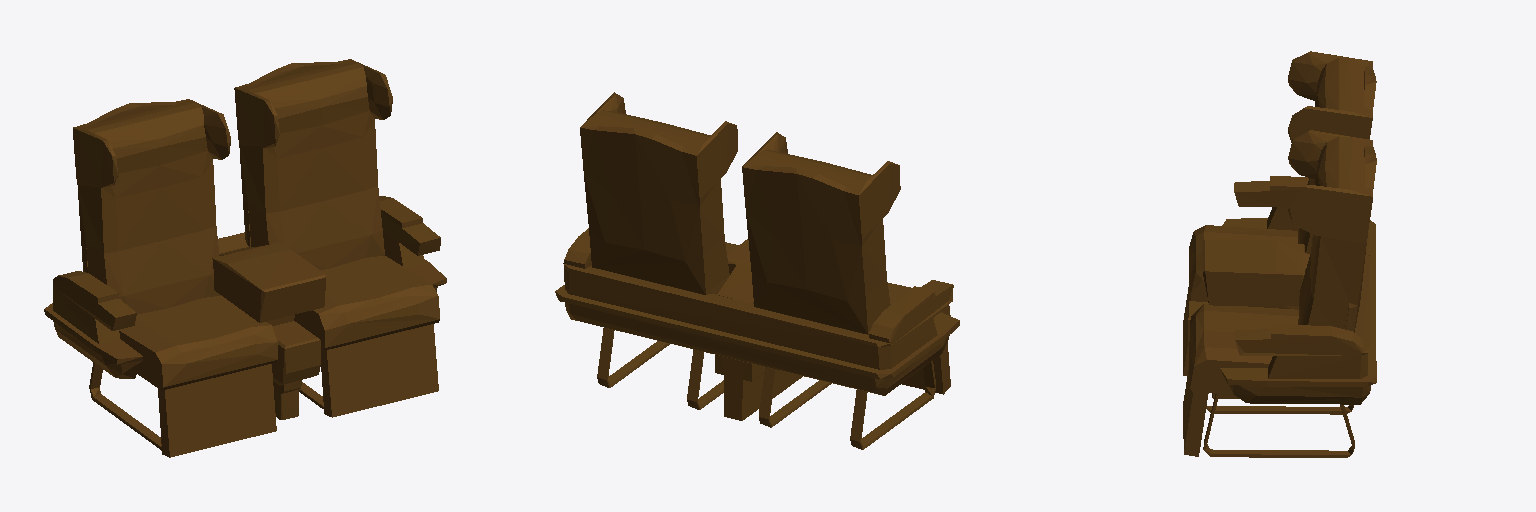
3 renders of one model, left to right at view 1: azimuth 30°, elevation 25°; view 2: azimuth 150°, elevation 25°; view 3: azimuth 270°, elevation 25°, orthographic.
Parts seen in each view (by area): view 1: Default; view 2: Default; view 3: Default.
Part boxes in pixels (x1,y1,x2,y2): Default: (44, 59, 446, 457); Default: (555, 92, 959, 449); Default: (1183, 51, 1376, 457).
Size of the model in its own units: 3.25 by 2.56 by 1.62.
Materials: 1 (1 with a texture image).